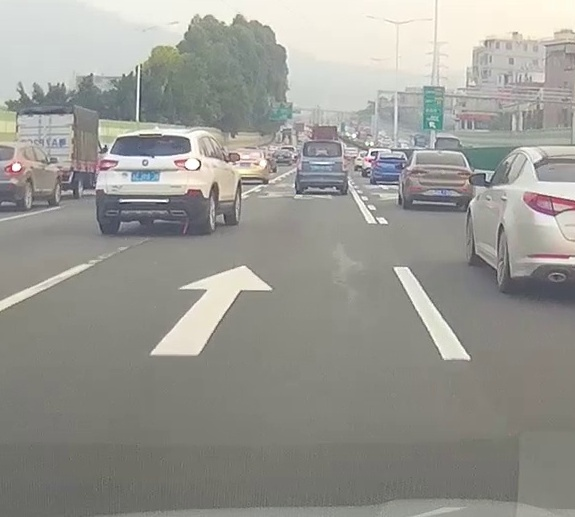L_light: (98, 159, 119, 172), (411, 169, 429, 175), (297, 158, 302, 170)
R_light: (174, 158, 200, 171), (456, 172, 472, 178), (342, 159, 347, 171)
T_light: (139, 134, 161, 137), (435, 153, 445, 156), (317, 141, 326, 144)
day-no: (407, 150, 477, 212), (295, 139, 348, 195)
day-right: (96, 129, 202, 234)
